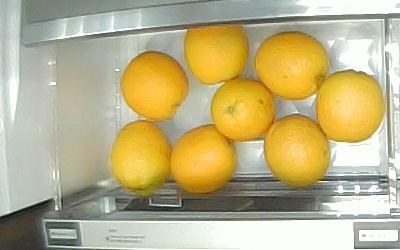orange: (254, 32, 331, 101), (317, 70, 385, 143), (264, 114, 330, 189), (121, 51, 190, 120), (171, 124, 238, 194), (111, 119, 171, 196), (210, 77, 276, 141), (185, 24, 249, 84)
